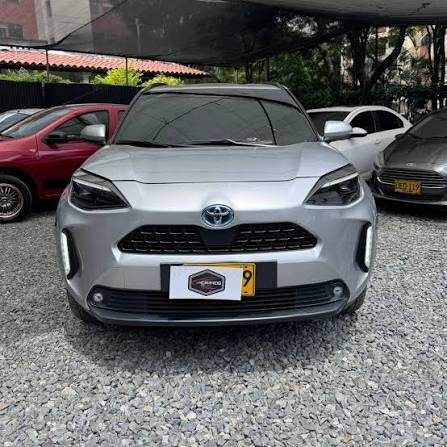car: (42, 88, 388, 333), (1, 99, 135, 216), (3, 100, 135, 216), (323, 107, 440, 215), (302, 107, 418, 193), (377, 107, 447, 219), (312, 108, 413, 157)
